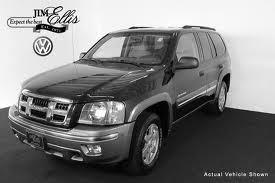car: (10, 23, 235, 168)
